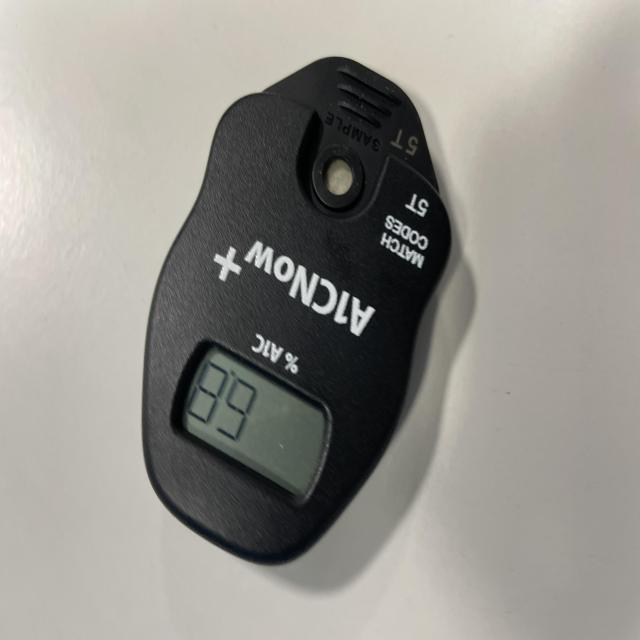hba1c: (140, 57, 454, 570)
